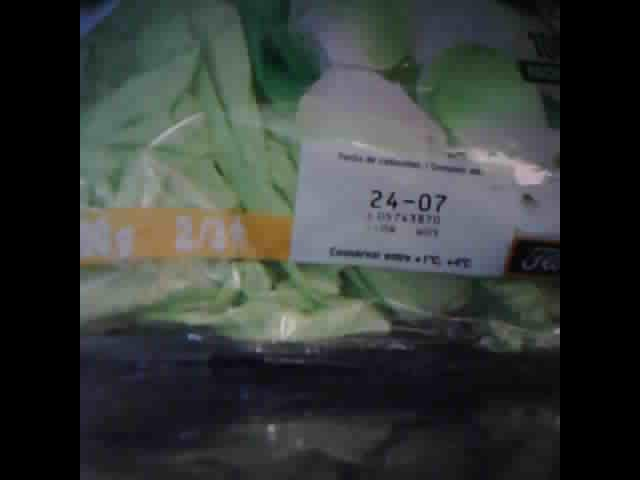florette: (82, 3, 561, 366)
